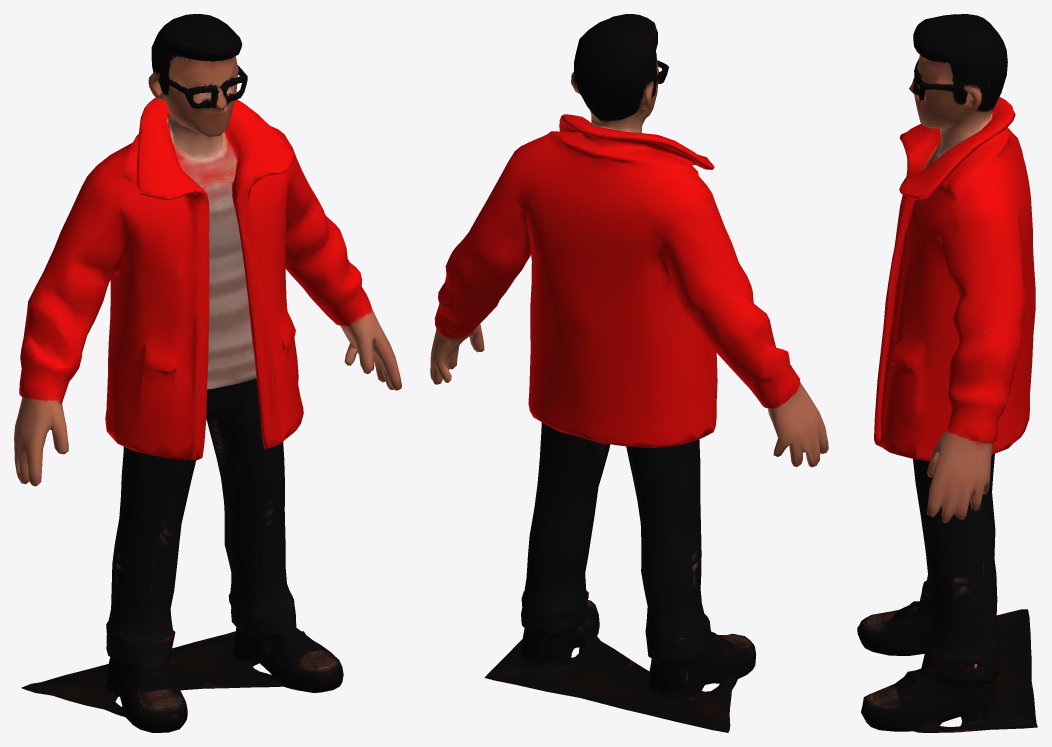
File: passenger-orange.web.glb
3 renders of one model, left to right at view 1: azimuth 30°, elevation 25°; view 2: azimuth 150°, elevation 25°; view 3: azimuth 270°, elevation 25°, orthographic.
Bounding box in the file's own units: 0.6068 × 1 × 0.2486.
1 material, 1 textured.
